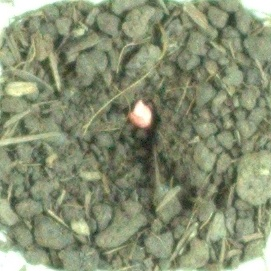pepper seed: (48, 33, 203, 163)
